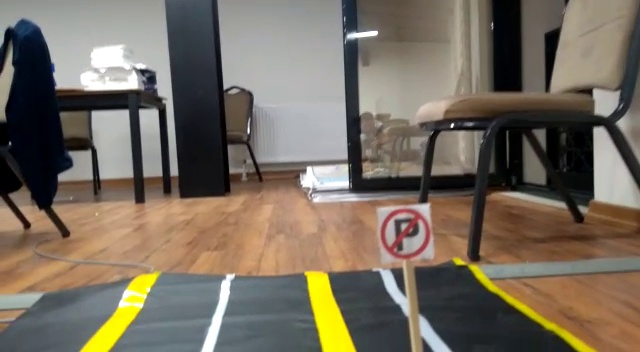park_yapilmaz: (379, 205, 433, 258)
